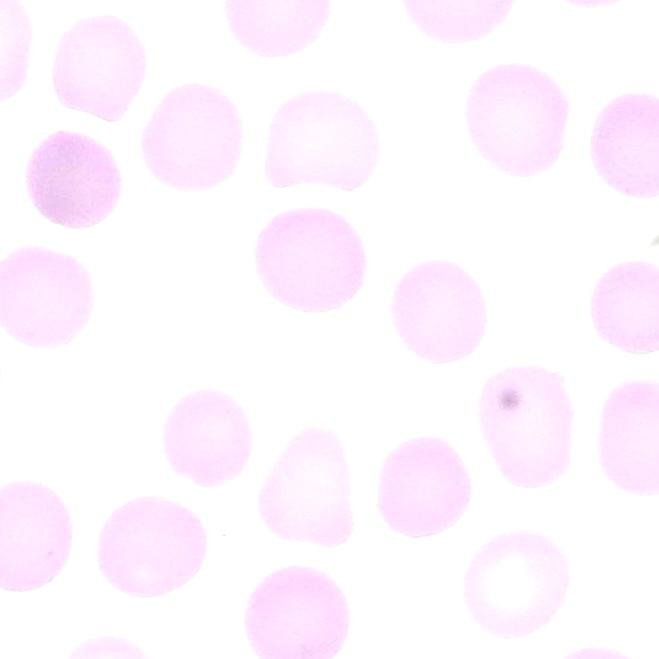Uninfected: (462, 66, 572, 179), (477, 361, 571, 492), (462, 526, 573, 635), (253, 426, 352, 542), (267, 91, 377, 195), (100, 496, 211, 594), (260, 209, 369, 306), (390, 256, 488, 362), (240, 564, 346, 659), (142, 87, 242, 187), (48, 16, 146, 116), (160, 387, 257, 484), (27, 127, 121, 227), (0, 244, 92, 346), (380, 439, 472, 534), (0, 482, 77, 594), (587, 89, 659, 195), (592, 254, 659, 353)
